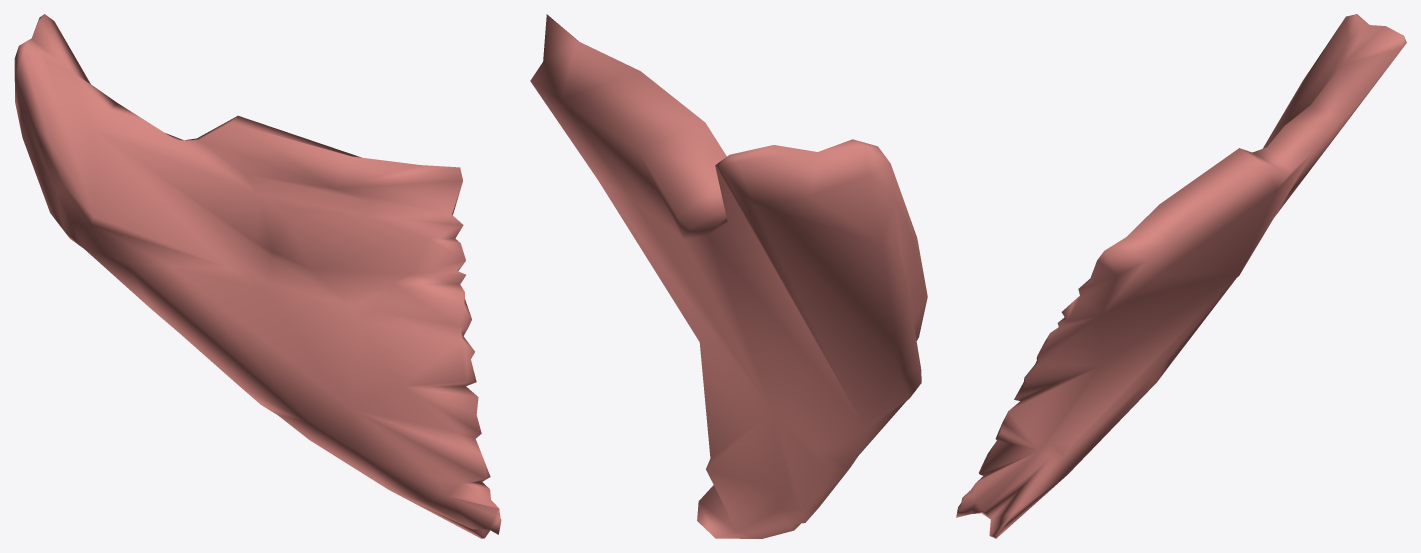
3 views of the same model, side by side, from view 1: azimuth 30°, elevation 25°; view 2: azimuth 150°, elevation 25°; view 3: azimuth 270°, elevation 25° (orthographic). The views are drawn at different scales.
Parts seen in each view (by area): view 1: ZA_092942e79339cad5; view 2: ZA_092942e79339cad5; view 3: ZA_092942e79339cad5.
Part boxes in pixels (x1,y1,x2,y2): ZA_092942e79339cad5: (14, 14, 501, 538); ZA_092942e79339cad5: (530, 14, 927, 538); ZA_092942e79339cad5: (956, 14, 1406, 538).
Size of the model in its own units: 0.0177 by 0.0225 by 0.0228.
